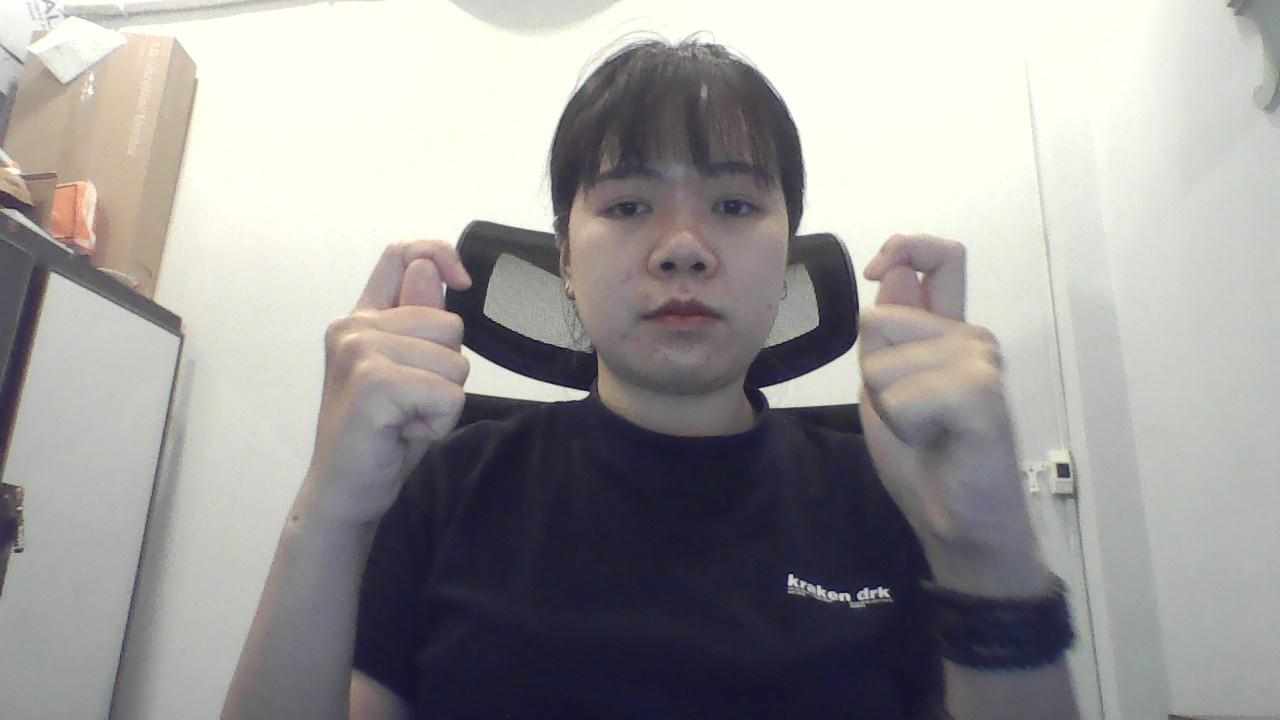X: (849, 220, 1035, 557), (309, 229, 485, 542)
